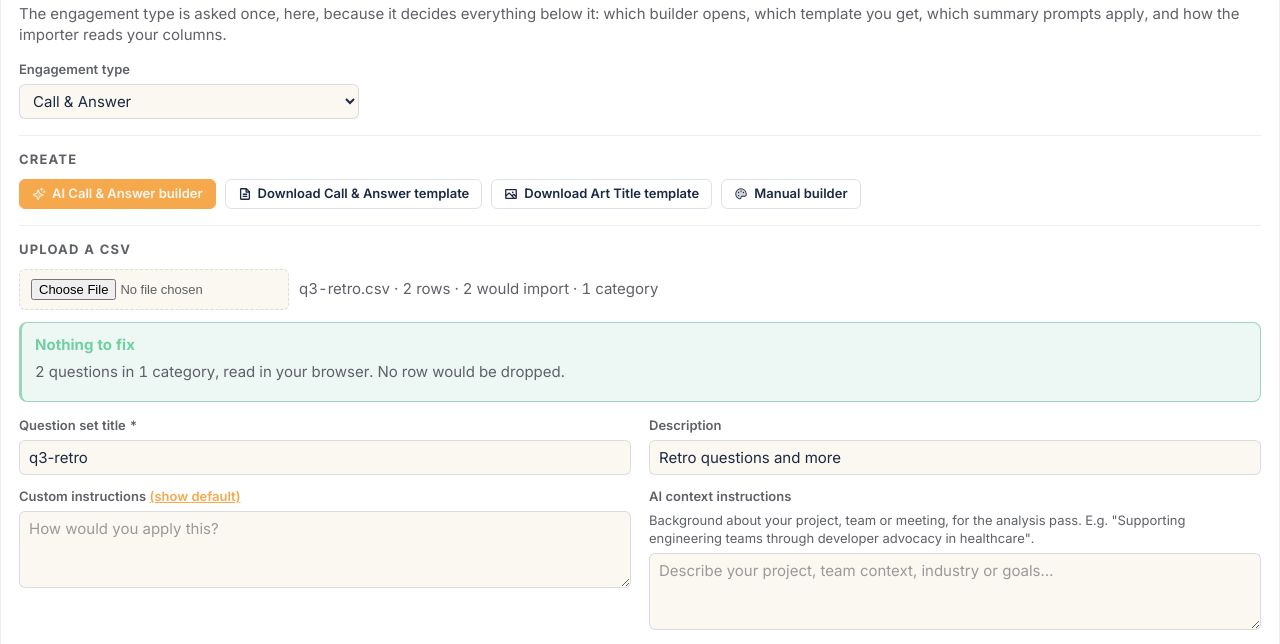
Test: the upload itself › it posts what the form holds and reports the server’s message
The width and height of the screenshot is (1280, 644).
Earlier steps of the test are not shown.
Check: the element that starts with "Nothing to fix" is shown, box 19,322 -> 1261,402
Step 1. Replace the text in the field labelled "Question set title *" with "Q3 Retro" → (325, 457), box 19,440 -> 631,475
(page scrolled)
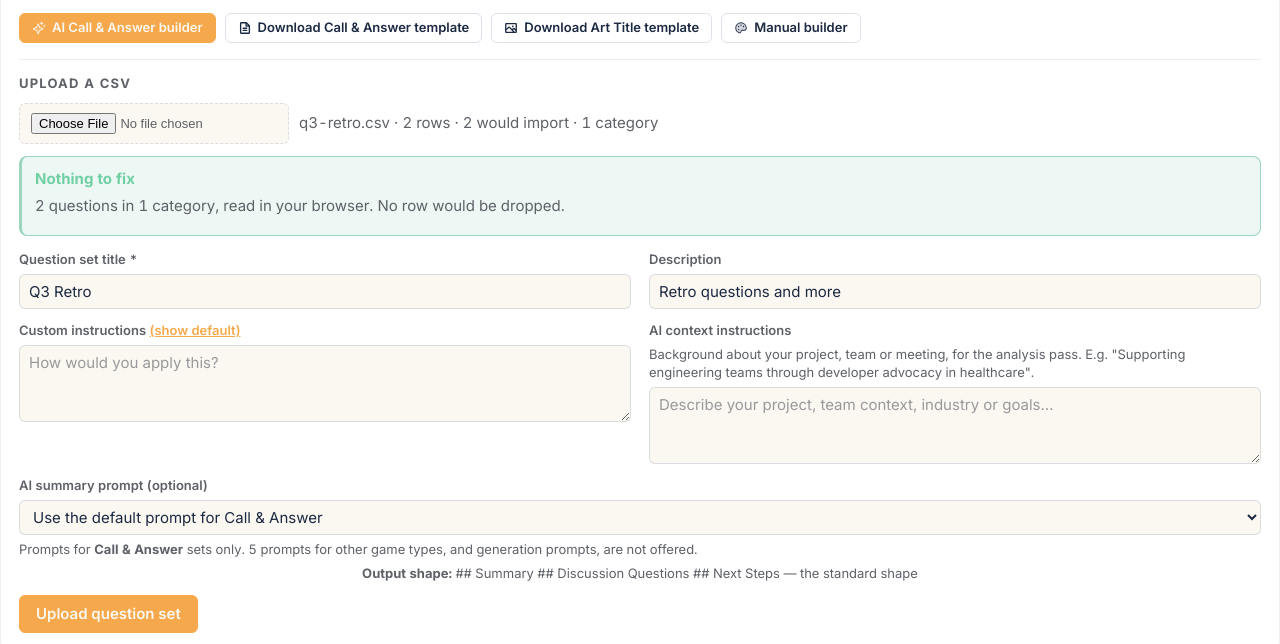
Step 2. Click the button "Upload question set" → (108, 614), box 19,595 -> 198,633
(page scrolled)
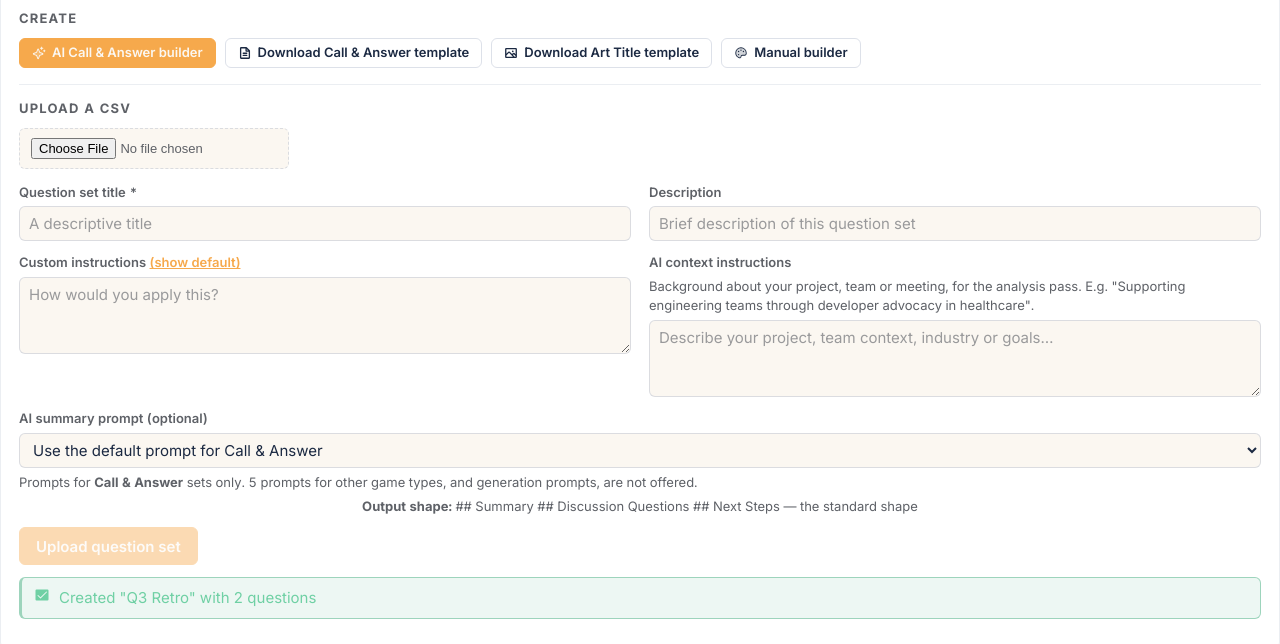
Check: the message shows "Created \"Q3 Retro\"", box 59,588 -> 316,608
